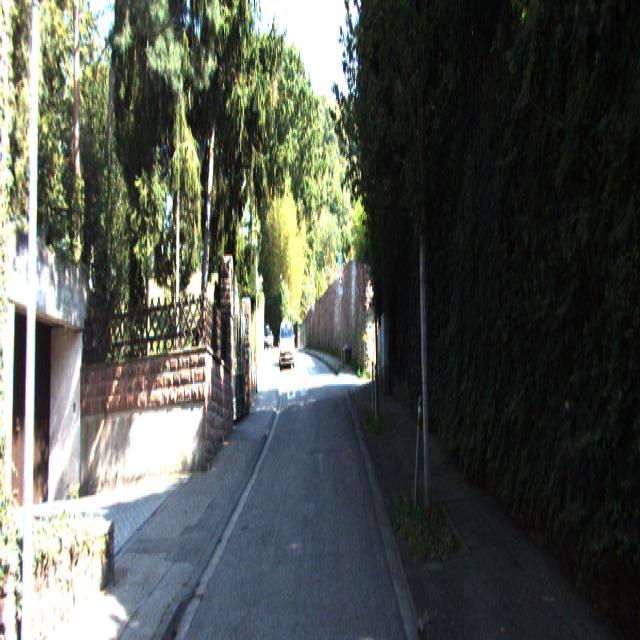Car: (279, 320, 295, 374)
DontCare: (256, 318, 274, 347)
